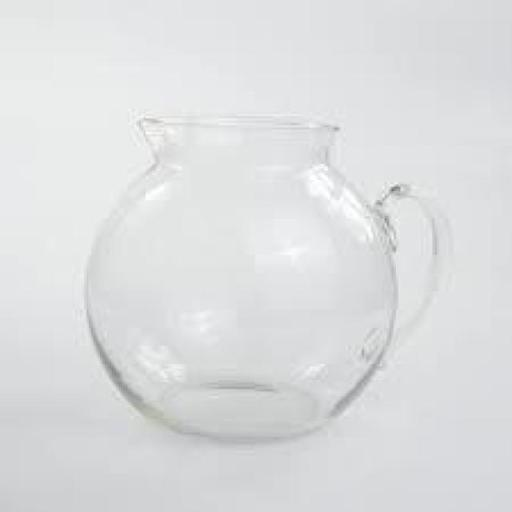glass: (70, 120, 465, 448)
